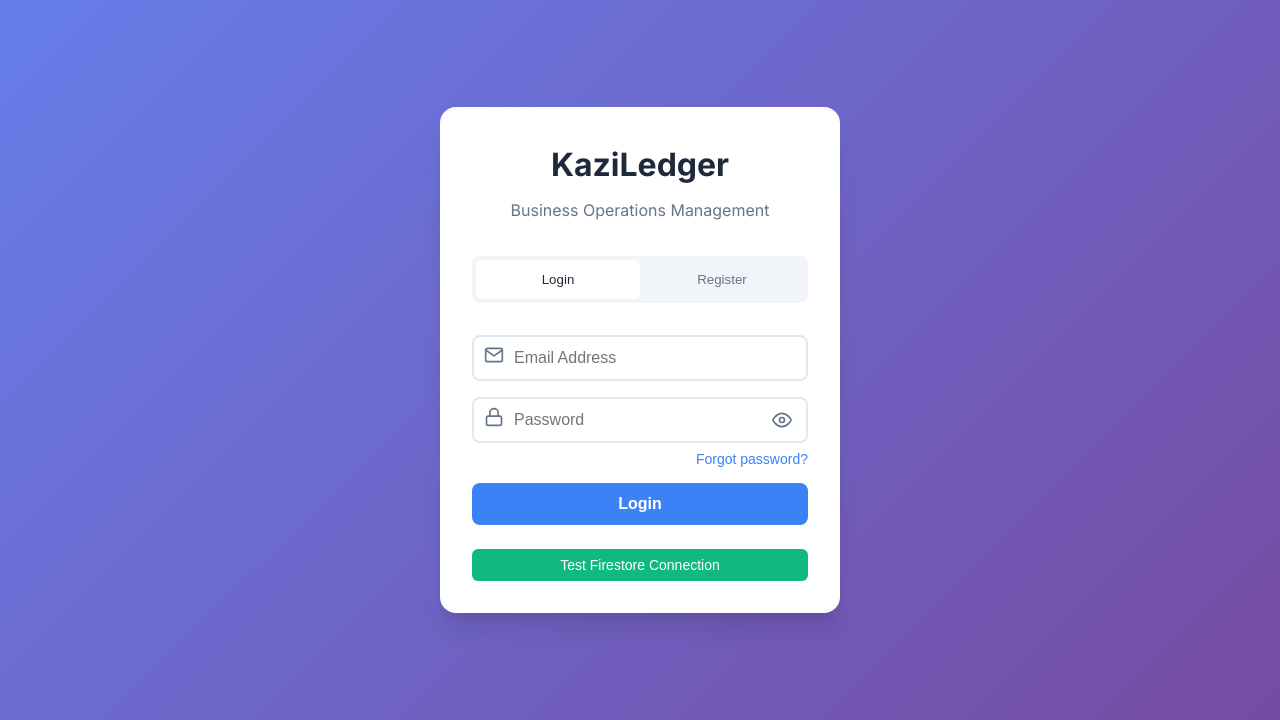
Login Flow › should toggle password visibility
The width and height of the screenshot is (1280, 720).
Type "testpassword" into the password field named "password" at [640, 420], box top-left (472, 397), bottom-right (808, 443)
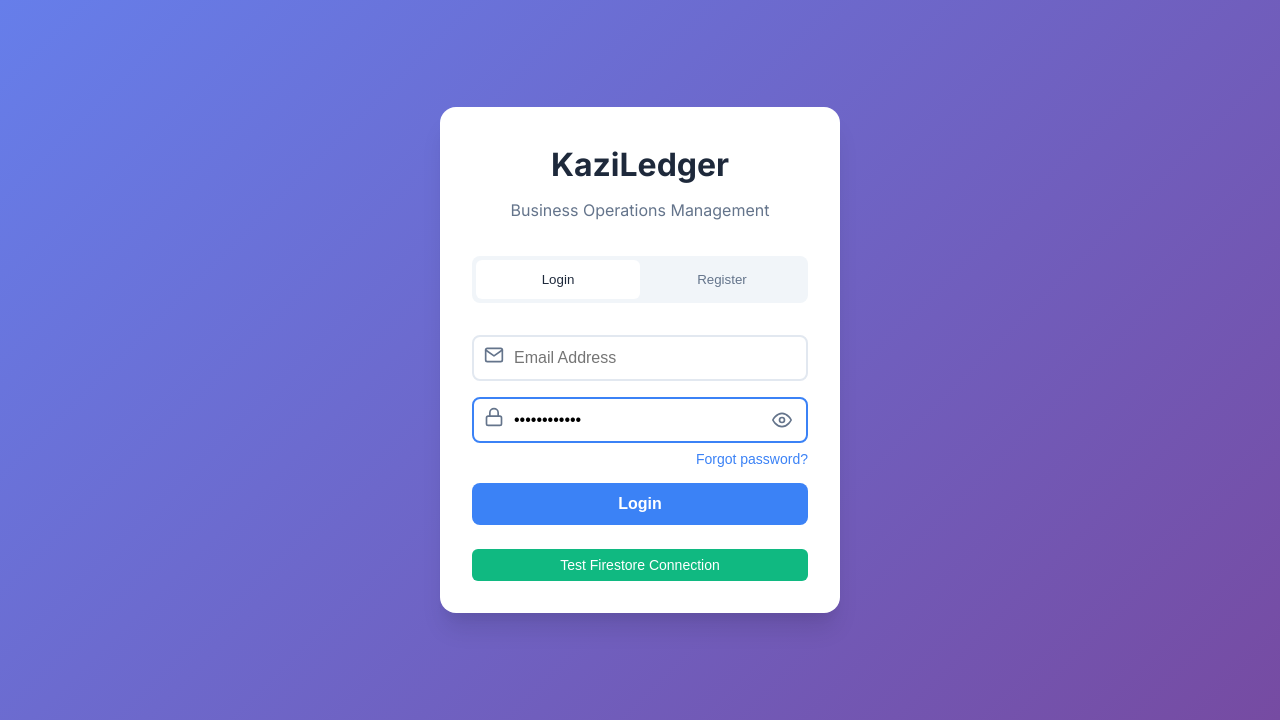
Click the button named "Show password" at [782, 420], box top-left (768, 406), bottom-right (796, 434)
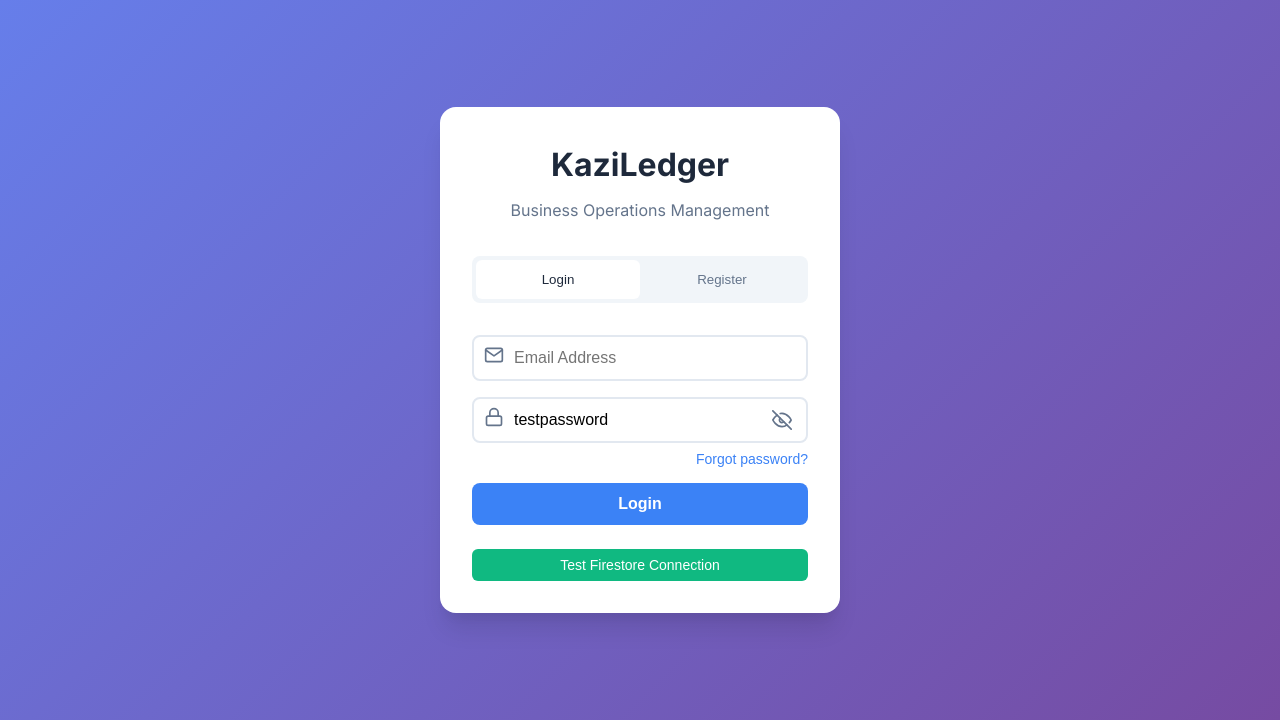
Expected: the field named "password" shows its text, top-left (472, 397), bottom-right (808, 443)
